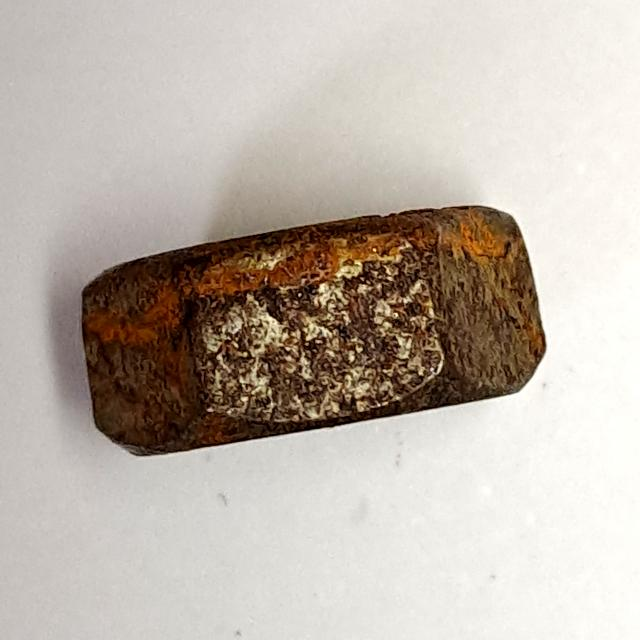Side_Rust: (57, 196, 564, 469)
